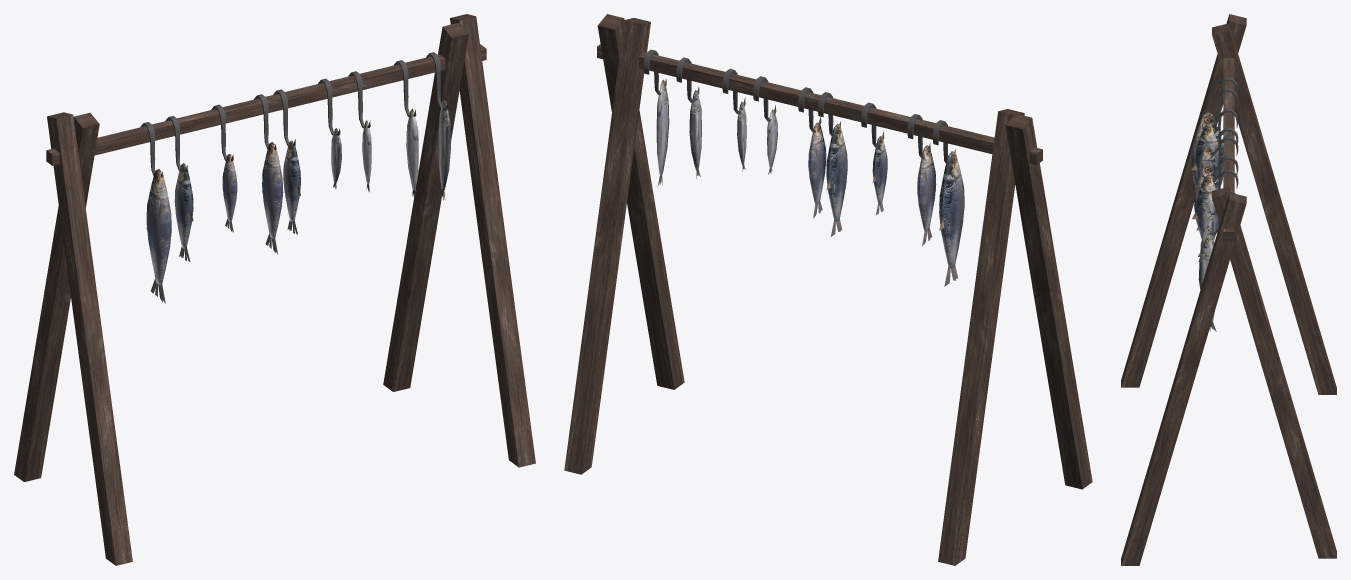
File: fish_rack.glb
The picture shows the model from 3 angles, left to right: view 1: azimuth 30°, elevation 25°; view 2: azimuth 150°, elevation 25°; view 3: azimuth 270°, elevation 25°; orthographic projection. The views are drawn at different scales.
Visible parts, largest first — view 1: Props_Rack_Fish.001; view 2: Props_Rack_Fish.001; view 3: Props_Rack_Fish.001.
Boxes of the visible parts, <box> form: Props_Rack_Fish.001: <box>14,14,535,565</box>; Props_Rack_Fish.001: <box>564,14,1092,565</box>; Props_Rack_Fish.001: <box>1121,14,1336,565</box>.
Bounding box in the file's own units: 2.42 × 2.15 × 1.15.
Materials: 2 (2 with a texture image).
